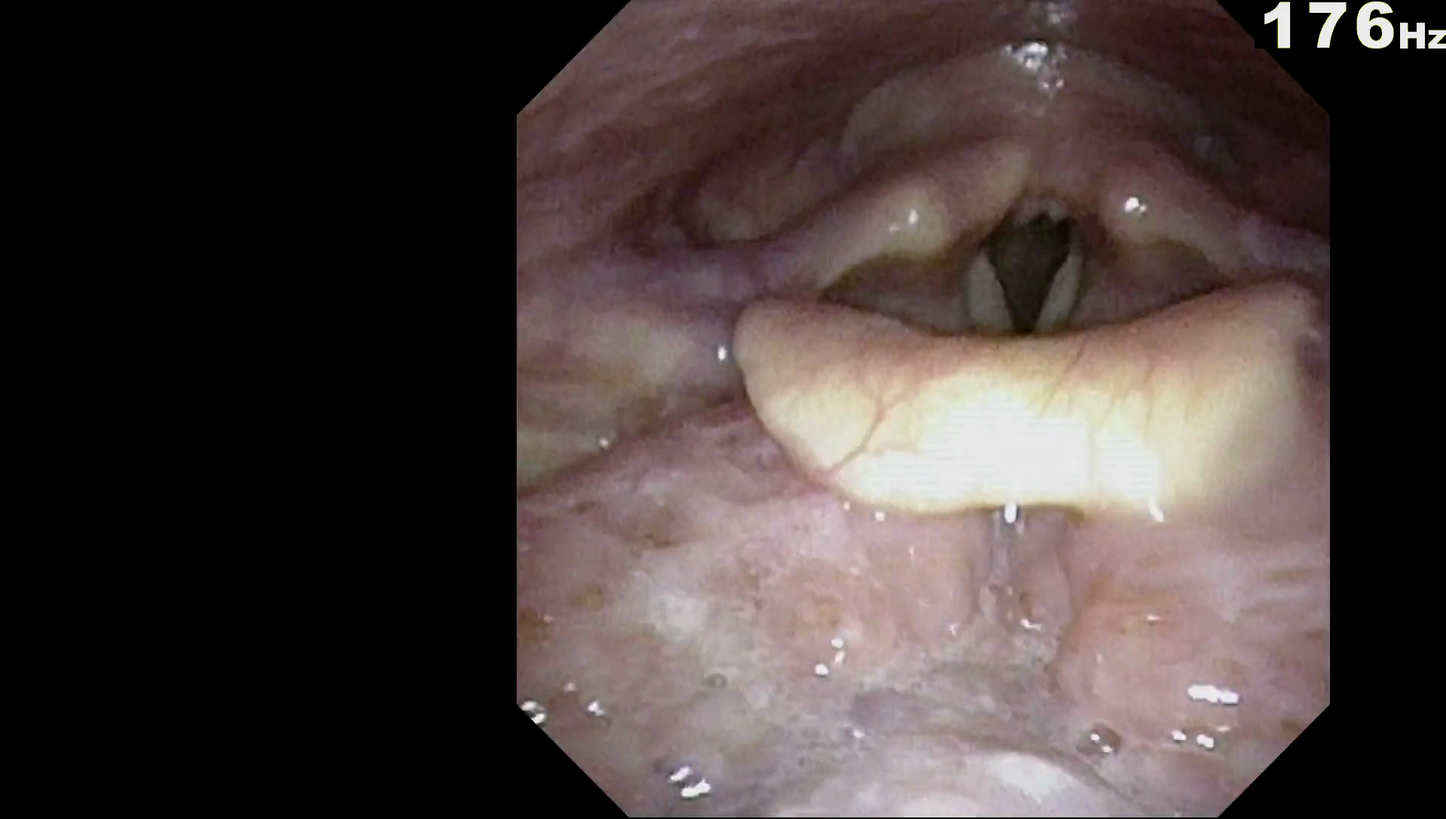trachea: (950, 197, 1111, 349)
